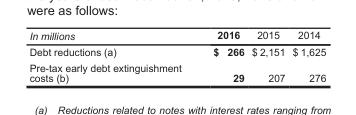table: (28, 29, 325, 83)
table column: (28, 29, 196, 83), (196, 29, 247, 83), (247, 29, 288, 83), (288, 29, 325, 83)
table column header: (28, 29, 325, 42)
table row: (28, 59, 325, 83), (28, 42, 325, 59), (28, 29, 325, 42)
